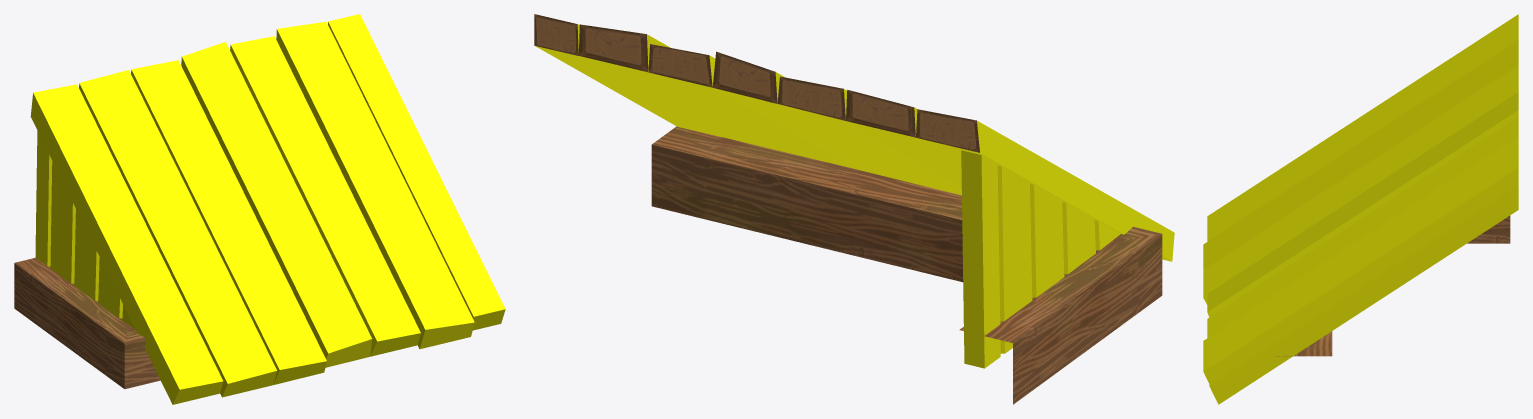
File: roof-wooden-2x1-l.glb
The picture shows the model from 3 angles, left to right: view 1: azimuth 30°, elevation 25°; view 2: azimuth 150°, elevation 25°; view 3: azimuth 270°, elevation 25°; orthographic projection. The views are drawn at different scales.
Parts seen in each view (by area): view 1: Roof_Wooden_2x1_L; view 2: Roof_Wooden_2x1_L; view 3: Roof_Wooden_2x1_L.
Part boxes in pixels (left/top/right/bottom): Roof_Wooden_2x1_L: left=14, top=14, right=505, bottom=404; Roof_Wooden_2x1_L: left=534, top=14, right=1174, bottom=404; Roof_Wooden_2x1_L: left=1203, top=14, right=1518, bottom=404.
Size of the model in its own units: 2.13 by 1.25 by 1.56.
2 materials, 1 textured.
